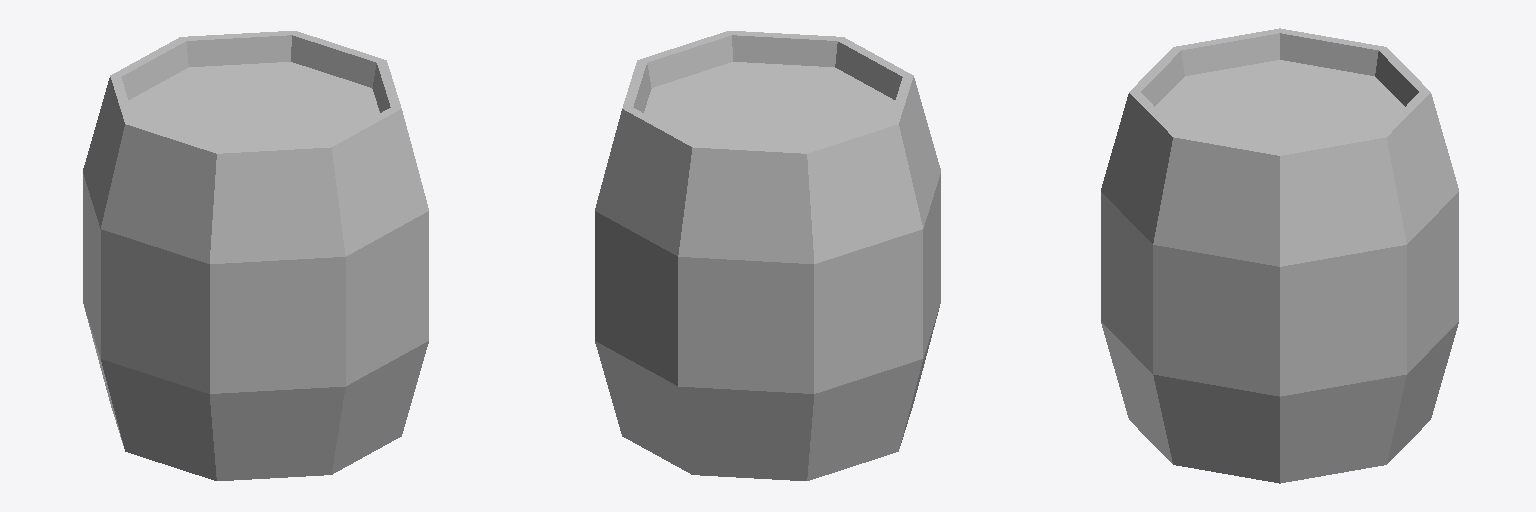
File: small_barrel.obj
The picture shows the model from 3 angles: view 1: azimuth 30°, elevation 25°; view 2: azimuth 150°, elevation 25°; view 3: azimuth 270°, elevation 25°; orthographic projection.
Parts seen in each view (by area): view 1: Big_Barrel; view 2: Big_Barrel; view 3: Big_Barrel.
Boxes of the visible parts, <box> form: Big_Barrel: <box>83,31,428,480</box>; Big_Barrel: <box>595,31,940,480</box>; Big_Barrel: <box>1101,28,1458,483</box>.
Size of the model in its own units: 0.9872 by 0.9942 by 0.9872.